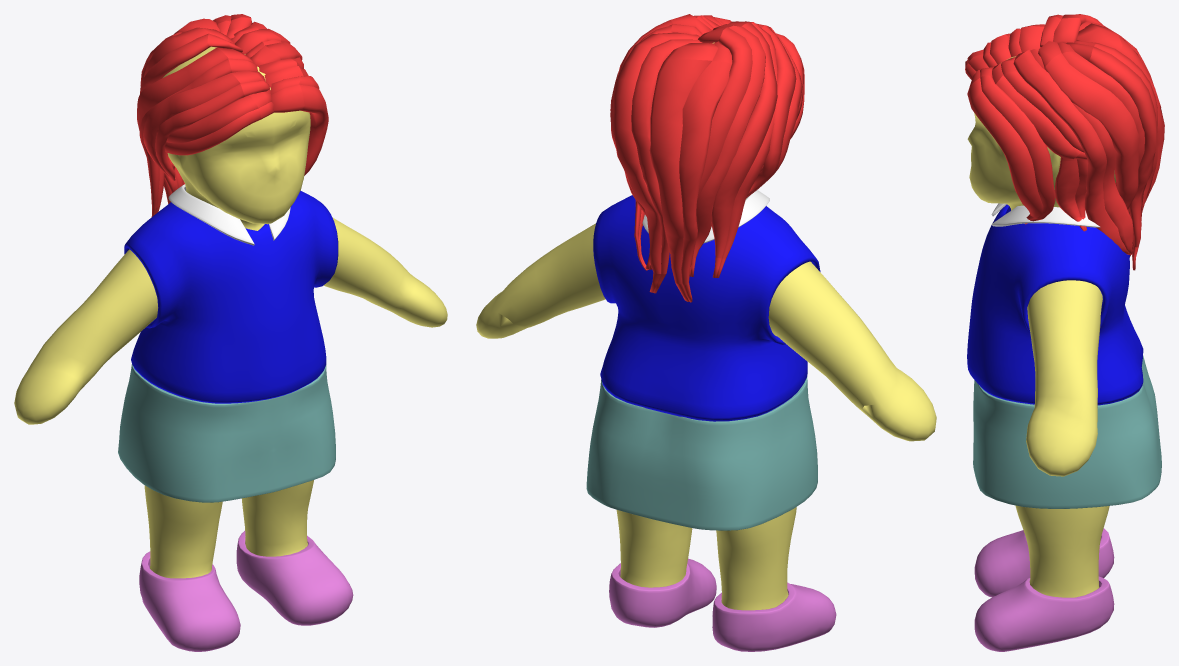
The model's file is Character2.fbx.
3 views of the same model, side by side, from view 1: azimuth 30°, elevation 25°; view 2: azimuth 150°, elevation 25°; view 3: azimuth 270°, elevation 25° (orthographic). The views are drawn at different scales.
Parts seen in each view (by area): view 1: Hair; view 2: Hair; view 3: Hair.
Boxes of the visible parts, x1=… form: Hair: x1=14, y1=14, x2=447, y2=651; Hair: x1=476, y1=14, x2=936, y2=651; Hair: x1=965, y1=14, x2=1164, y2=651.
Size of the model in its own units: 70.67 by 92.55 by 28.62.
